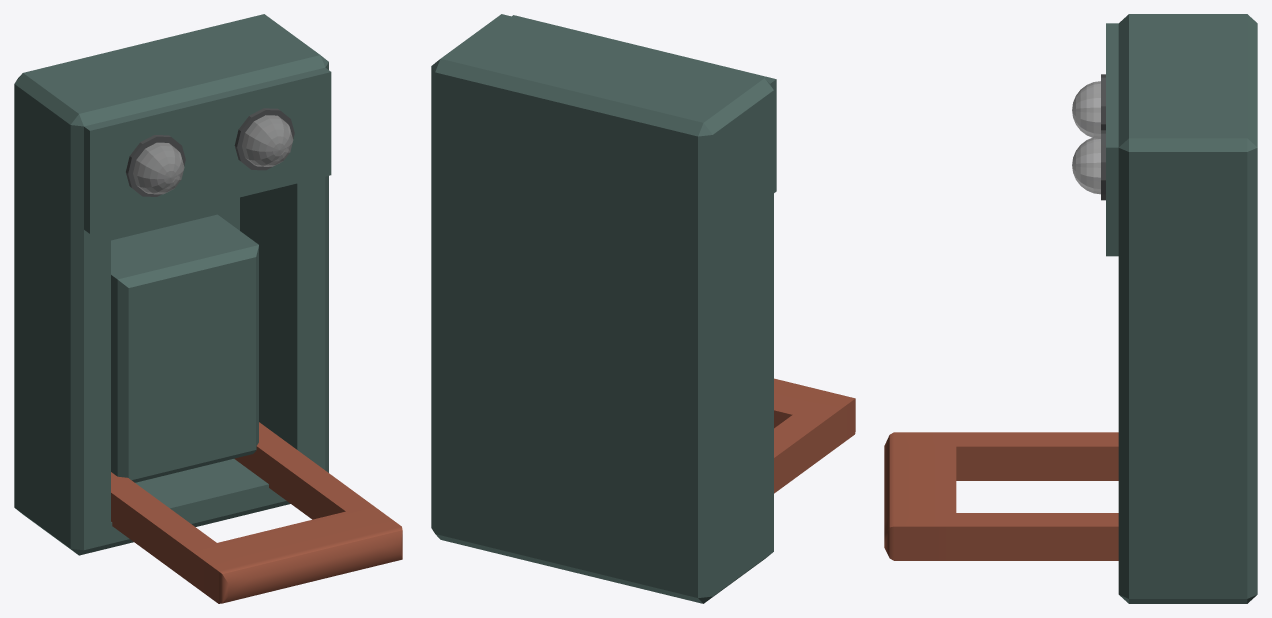
File: Lever 1.fbx
3 renders of one model, left to right at view 1: azimuth 30°, elevation 25°; view 2: azimuth 150°, elevation 25°; view 3: azimuth 270°, elevation 25°, orthographic. The views are drawn at different scales.
Visible parts, largest first — view 1: pCube1, pCube2, Light_Rim1, Light_Rim, Light_2, Light_1; view 2: pCube1, pCube2; view 3: pCube1, pCube2, Light_1, Light_2.
Boxes of the visible parts, <box> form: pCube1: <box>14,14,331,555</box>; pCube2: <box>111,422,402,603</box>; Light_Rim1: <box>126,135,185,196</box>; Light_Rim: <box>234,108,294,170</box>; Light_2: <box>133,142,184,194</box>; Light_1: <box>242,115,293,166</box>; pCube1: <box>431,14,776,603</box>; pCube2: <box>774,378,855,493</box>; pCube1: <box>1106,14,1257,603</box>; pCube2: <box>884,432,1118,560</box>; Light_1: <box>1072,136,1100,194</box>; Light_2: <box>1072,81,1100,137</box>.
Size of the model in its own units: 4.6 by 7.5 by 5.45.
